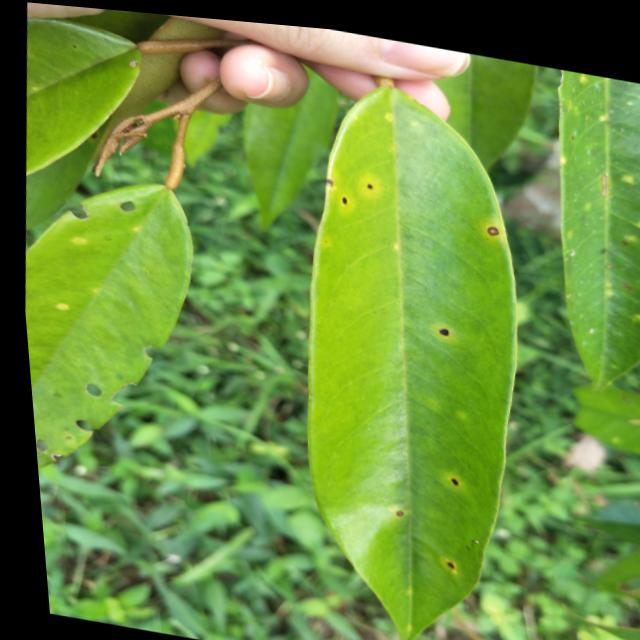Leaf Spot: (327, 166, 392, 214), (401, 302, 454, 334), (426, 543, 453, 579), (474, 201, 500, 234), (431, 458, 455, 493), (387, 494, 406, 516)
